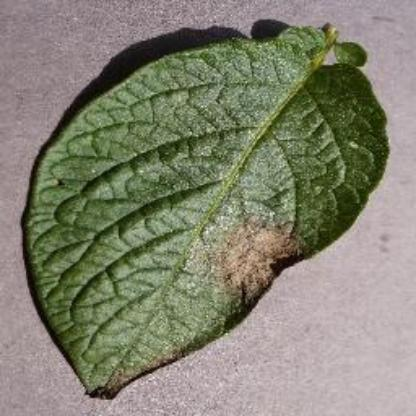Late-Blight: (15, 16, 408, 406)
